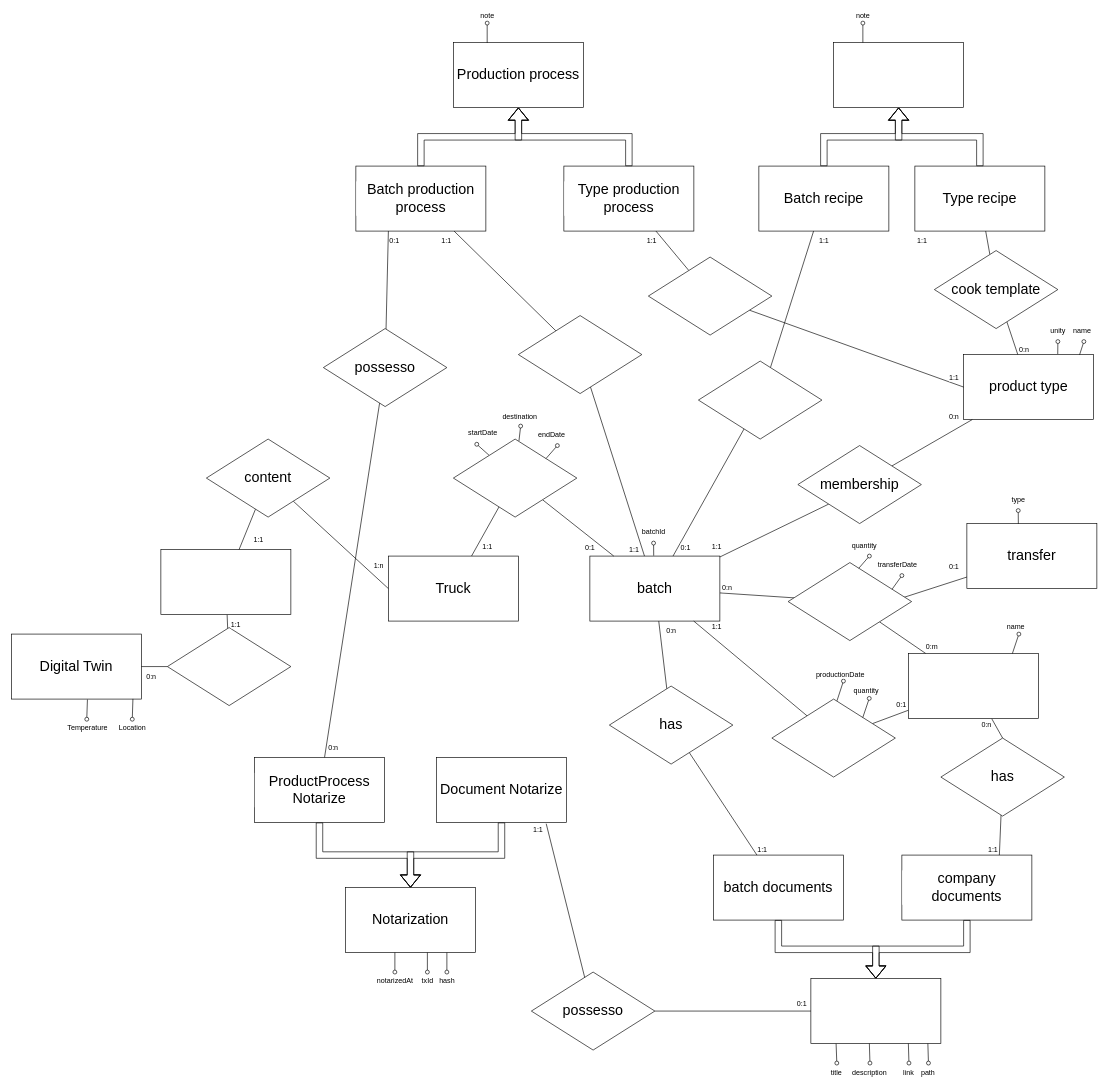
The diagram is 1108 pixels wide and 1089 high, and some of its shapes have lost their labels. The shapes that lost their labels are listed below. From the top down, each one's centre as x and y in pixels, then its label:
point (898, 75): Recipe
point (710, 295): built template
point (580, 354): built
point (760, 399): cook
point (515, 477): transport
point (225, 582): Sensor
point (849, 601): make
point (229, 666): implement
point (973, 686): company
point (833, 737): production
point (875, 1011): document
